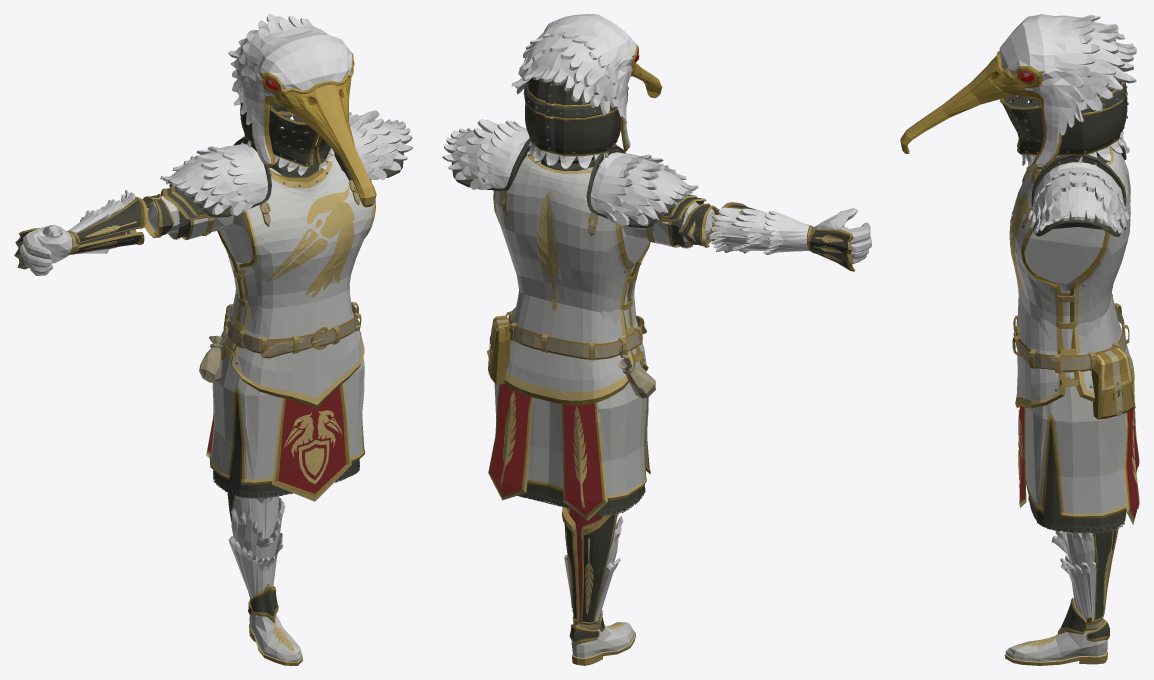
Rendered from pelicanWarriorFemale.glb.
3 views of the same model, side by side, from view 1: azimuth 30°, elevation 25°; view 2: azimuth 150°, elevation 25°; view 3: azimuth 270°, elevation 25° (orthographic). The views are drawn at different scales.
Visible parts, largest first — view 1: pelicanWarriorBody, pelicanWarriorHelmet, pelicanWarriorLowerLeg, pelicanWarriorBelt, pelicanWarriorWristGuard, pelicanWarriorUpperArm, pelicanWarriorFoot, pelicanWarriorGlove; view 2: pelicanWarriorBody, pelicanWarriorHelmet, pelicanWarriorLowerLeg, pelicanWarriorBelt, pelicanWarriorWristGuard, pelicanWarriorUpperArm, pelicanWarriorGlove, pelicanWarriorFoot; view 3: pelicanWarriorBody, pelicanWarriorHelmet, pelicanWarriorBelt, pelicanWarriorLowerLeg, pelicanWarriorFoot.
Part boxes in pixels (x1,y1,x2,y2): pelicanWarriorBody: (159, 110, 413, 501); pelicanWarriorHelmet: (228, 14, 376, 207); pelicanWarriorLowerLeg: (227, 492, 285, 598); pelicanWarriorBelt: (199, 302, 361, 382); pelicanWarriorWristGuard: (67, 190, 147, 254); pelicanWarriorUpperArm: (142, 185, 234, 240); pelicanWarriorFoot: (248, 583, 302, 665); pelicanWarriorGlove: (14, 225, 78, 275); pelicanWarriorBody: (442, 119, 698, 520); pelicanWarriorHelmet: (511, 14, 662, 169); pelicanWarriorLowerLeg: (562, 507, 623, 624); pelicanWarriorBelt: (487, 307, 655, 398); pelicanWarriorWristGuard: (708, 202, 812, 254); pelicanWarriorUpperArm: (622, 194, 718, 248); pelicanWarriorGlove: (807, 208, 871, 271); pelicanWarriorFoot: (569, 610, 635, 665); pelicanWarriorBody: (1009, 131, 1139, 533); pelicanWarriorHelmet: (900, 14, 1136, 169); pelicanWarriorBelt: (1012, 303, 1135, 419); pelicanWarriorLowerLeg: (1051, 527, 1118, 623); pelicanWarriorFoot: (1004, 597, 1109, 665).
Size of the model in its own units: 1.33 by 1.97 by 0.6563.
